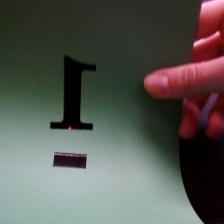green1: (39, 48, 111, 178)
